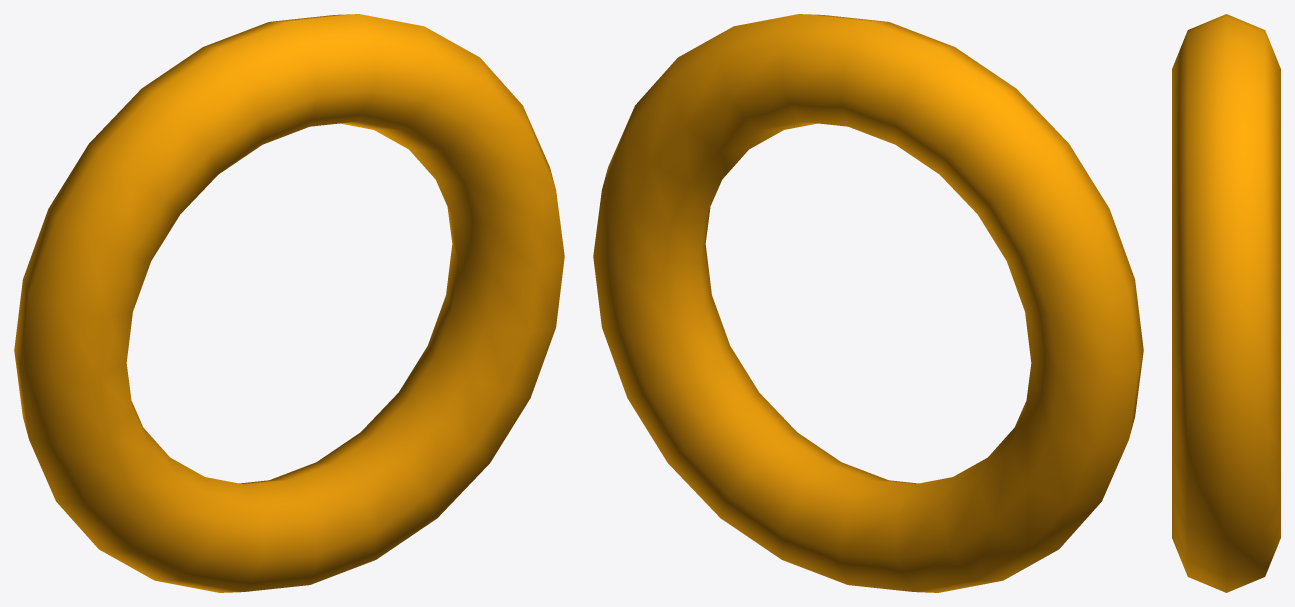
The model's file is Collectable_Ring_01.fbx.
3 renders of one model, left to right at view 1: azimuth 30°, elevation 25°; view 2: azimuth 150°, elevation 25°; view 3: azimuth 270°, elevation 25°, orthographic. The views are drawn at different scales.
Visible parts, largest first — view 1: Collectable_Ring_01; view 2: Collectable_Ring_01; view 3: Collectable_Ring_01.
Boxes of the visible parts, x1,y1,x2,y2 form: Collectable_Ring_01: (14, 14, 564, 592); Collectable_Ring_01: (593, 14, 1143, 592); Collectable_Ring_01: (1172, 14, 1280, 592).
Bounding box in the file's own units: 79.54 × 79.54 × 14.87.
